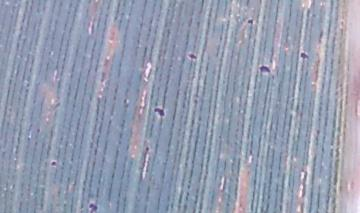tarspot: (152, 107, 166, 117), (258, 65, 272, 74), (88, 202, 98, 213), (187, 52, 198, 61), (300, 51, 309, 60), (49, 159, 58, 167), (247, 18, 255, 25), (145, 145, 150, 153)
